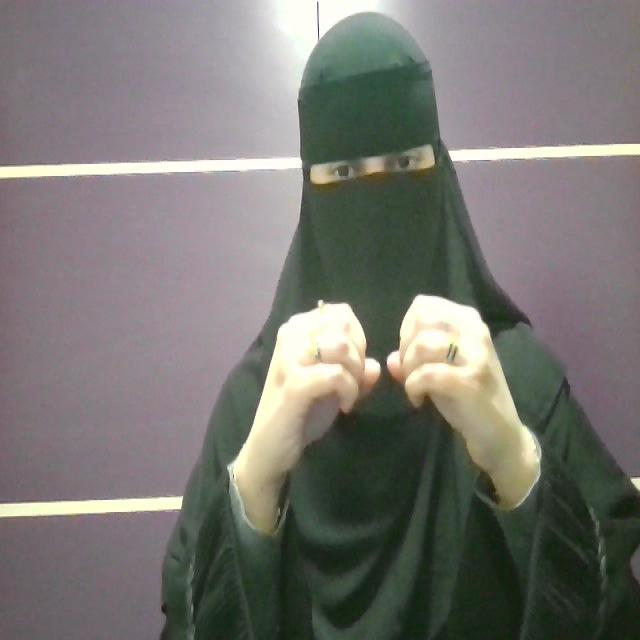analysis: (244, 289, 511, 496)
